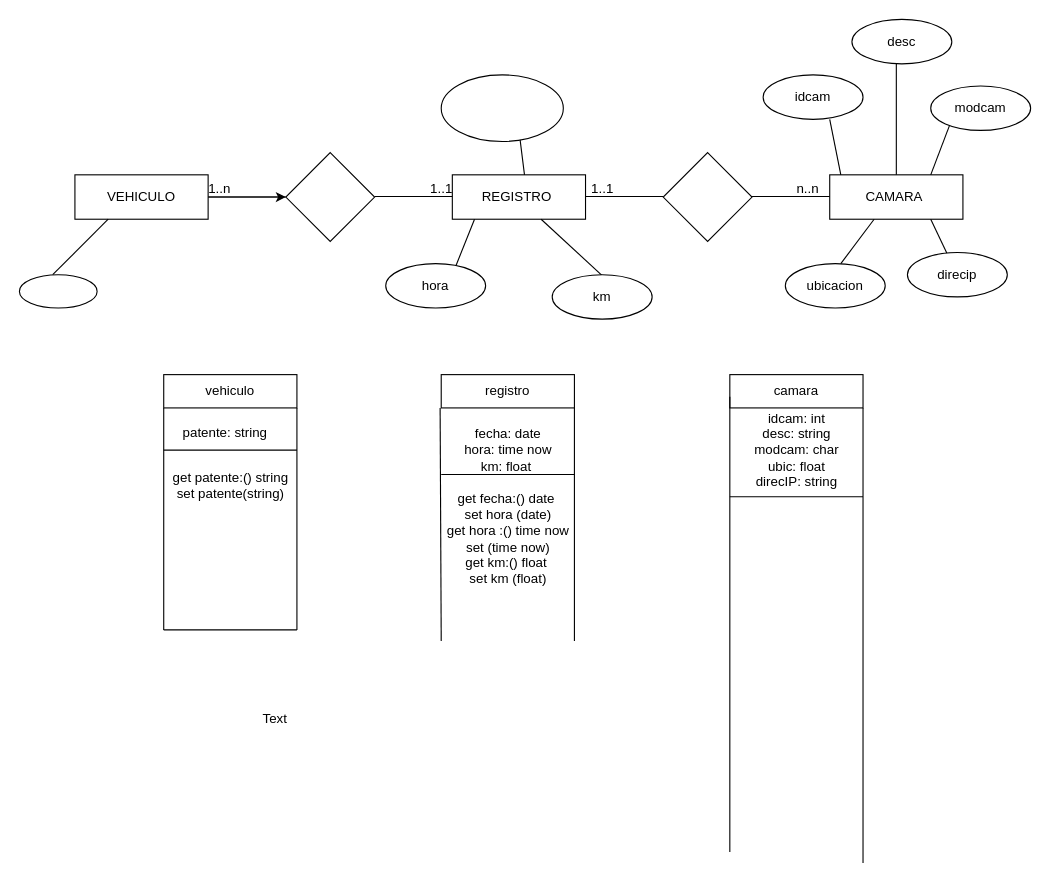
This 1050x884 diagram has some shape labels left out. The centre of each missing label's shape, as x and y in pixels:
"CAPTA" belongs at (x=707, y=196).
"ES DE" belongs at (x=330, y=196).
"fecha" belongs at (x=501, y=108).
"patente" belongs at (x=57, y=291).
